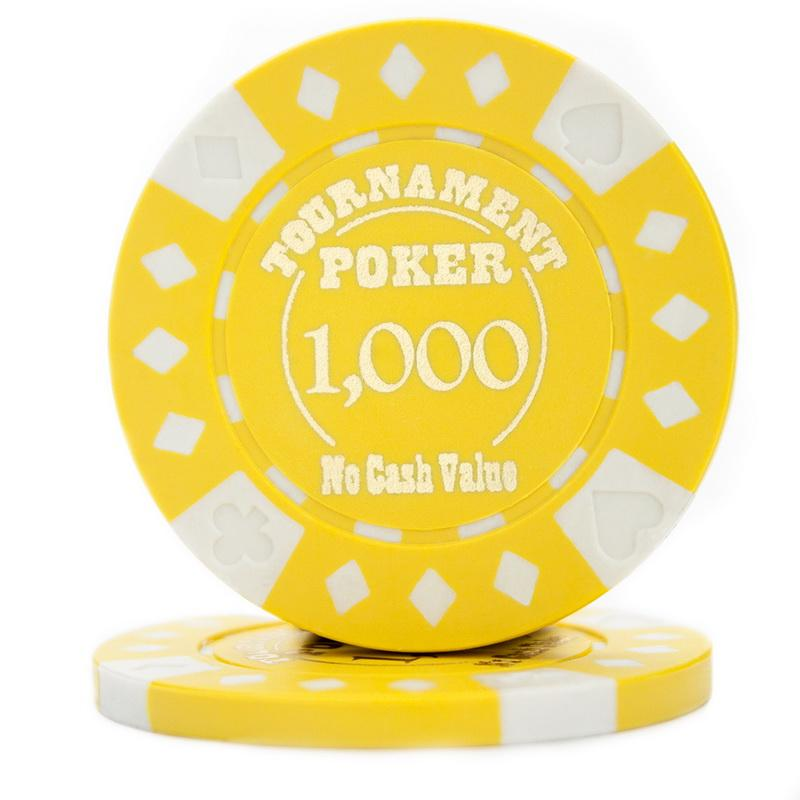chip-yellow: (109, 20, 736, 651), (94, 611, 711, 746)
